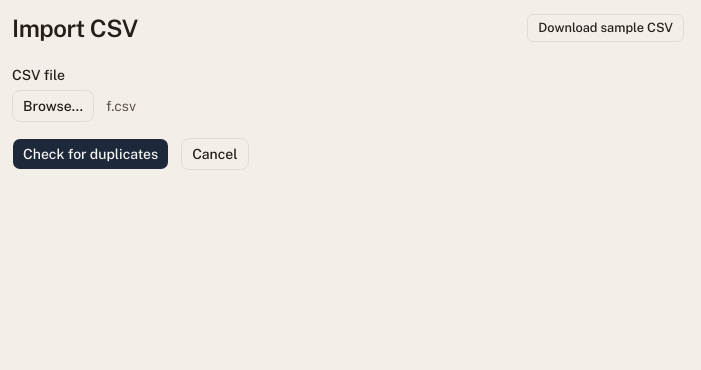
Test: uses singular grammar for one error
This screenshot has width=701, height=370.
Earlier steps of the test are not shown.
Click the button "Check for duplicates" at (91, 154), box [12, 138, 169, 170]
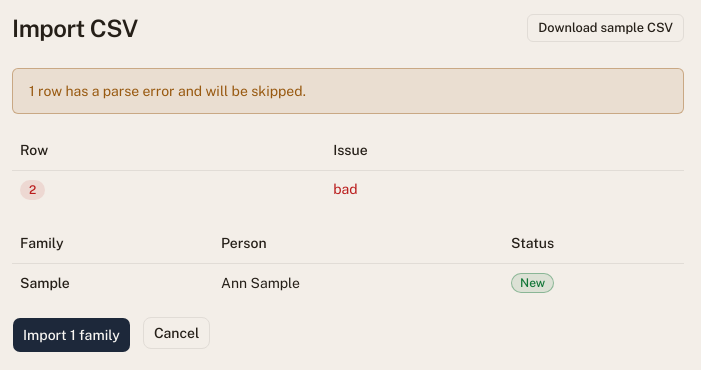
Expected: the button "Import 1 family" is shown, [12, 317, 131, 353]
Expected: the text "1 row has a parse error and will be skipped." is shown, [12, 68, 684, 114]
